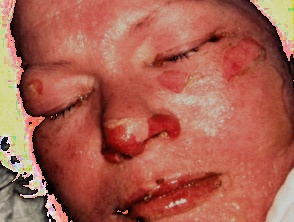SJS-TEN: (103, 165, 271, 222), (202, 22, 278, 93), (97, 109, 184, 166), (149, 66, 198, 101), (21, 71, 51, 101)
